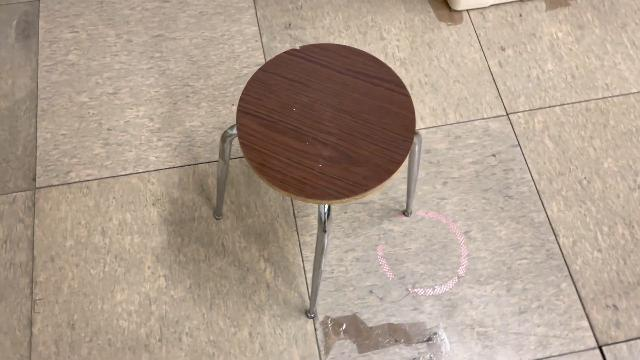Stool: (209, 37, 431, 325)
